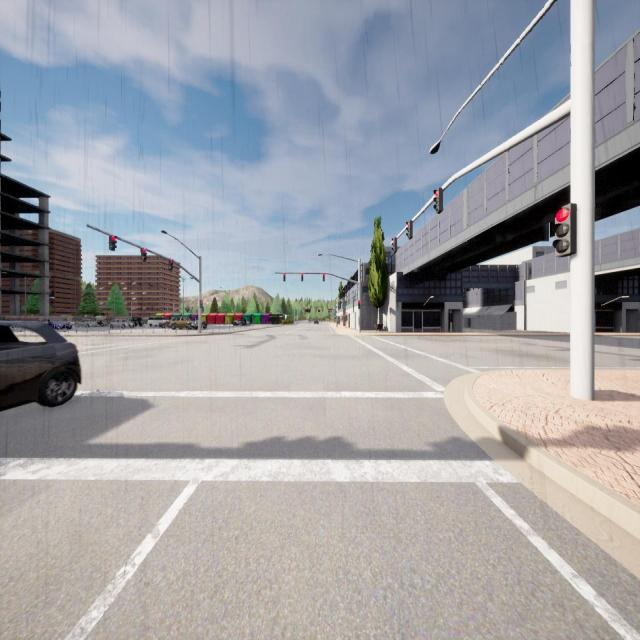Vehicle: (0, 320, 80, 410), (48, 316, 72, 329), (170, 316, 190, 330), (147, 316, 168, 328), (188, 319, 208, 330), (110, 319, 128, 329), (95, 315, 108, 327), (132, 316, 144, 326), (159, 321, 171, 329), (84, 319, 91, 328), (128, 320, 135, 329), (314, 320, 319, 324)
traffic_light: (552, 204, 577, 257), (433, 188, 442, 214), (406, 220, 413, 240), (109, 235, 117, 251), (392, 237, 397, 253), (141, 248, 147, 261), (168, 259, 174, 270), (200, 300, 203, 308), (301, 273, 303, 281), (358, 301, 360, 309), (323, 273, 325, 281), (284, 273, 286, 281)
